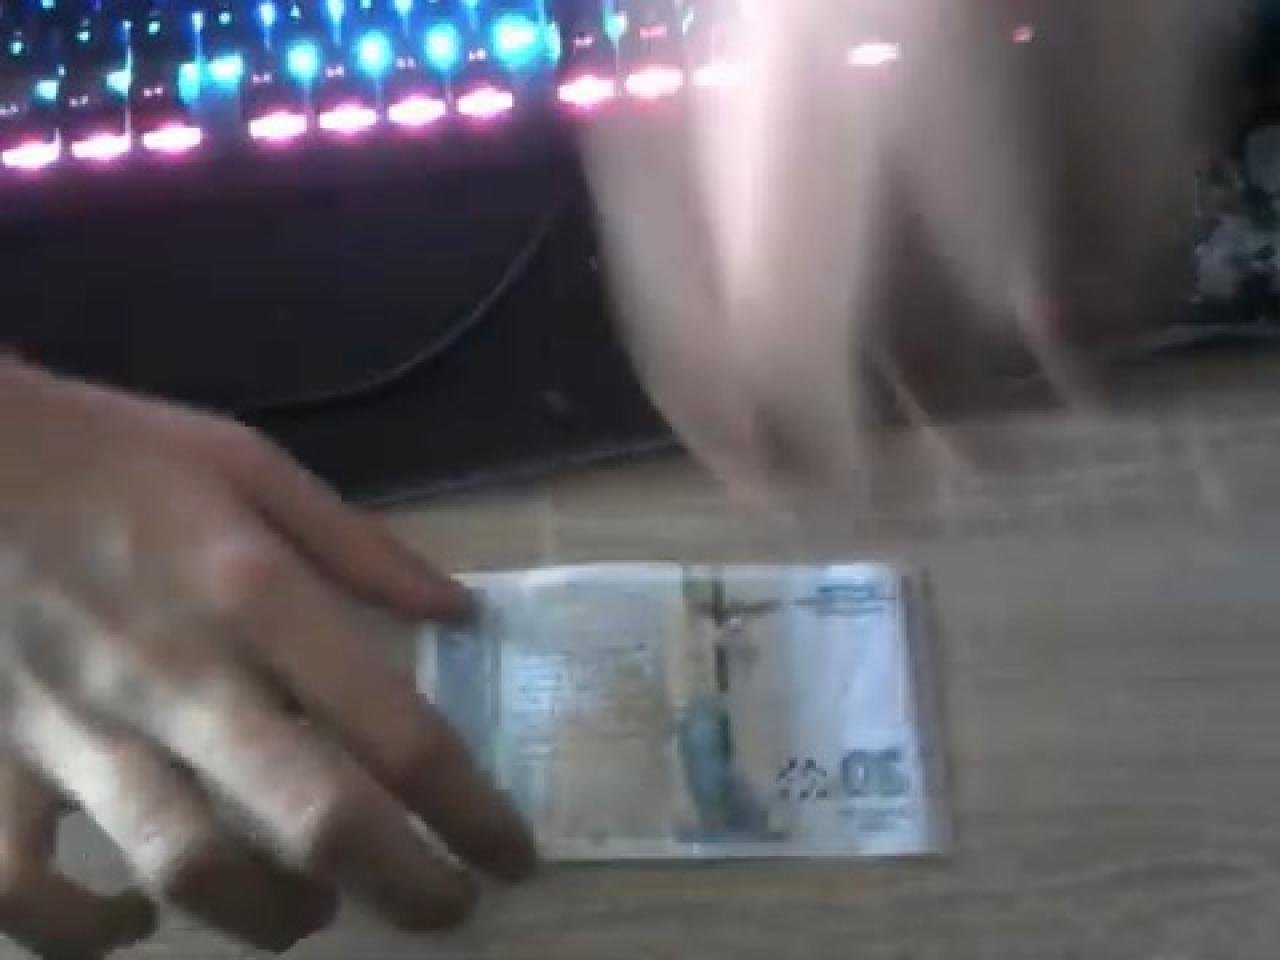20leva: (669, 560, 952, 861)
